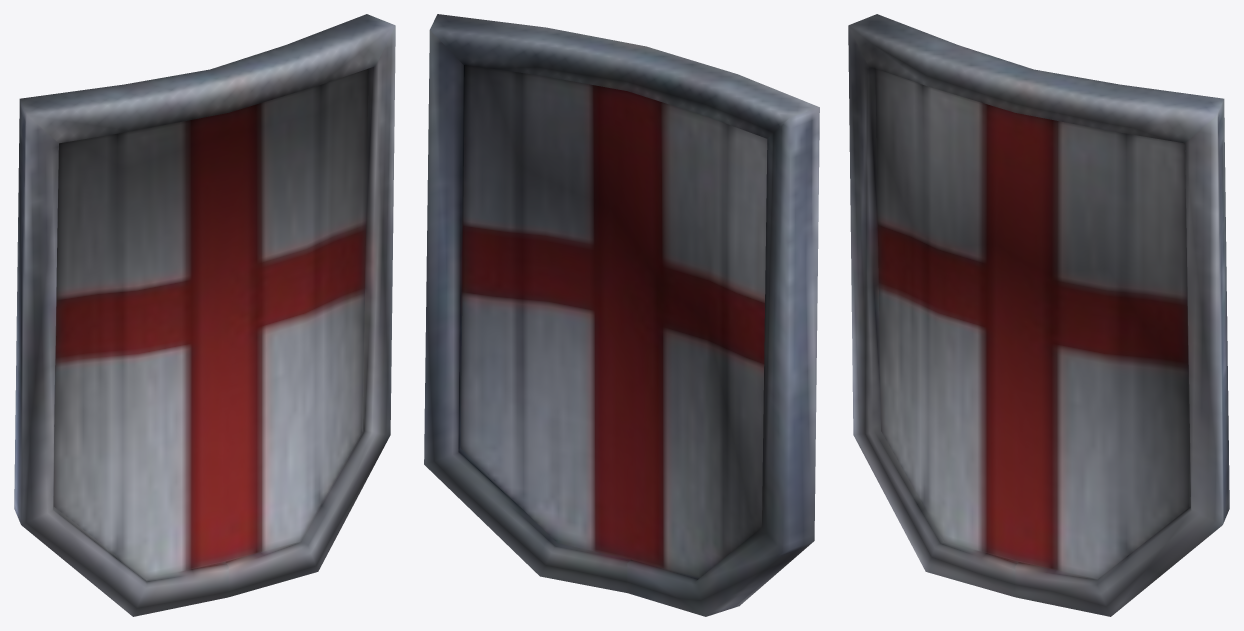
Rendered from Resources.glb.
3 views of the same model, side by side, from view 1: azimuth 30°, elevation 25°; view 2: azimuth 150°, elevation 25°; view 3: azimuth 330°, elevation 25° (orthographic). The views are drawn at different scales.
Visible parts, largest first — view 1: low; view 2: low; view 3: low.
Boxes of the visible parts, x1,y1,x2,y2 form: low: [14, 14, 395, 616]; low: [424, 14, 819, 616]; low: [848, 14, 1229, 616].
Bounding box in the file's own units: 1.42 × 1.89 × 0.2746.
Materials: 1 (1 with a texture image).
